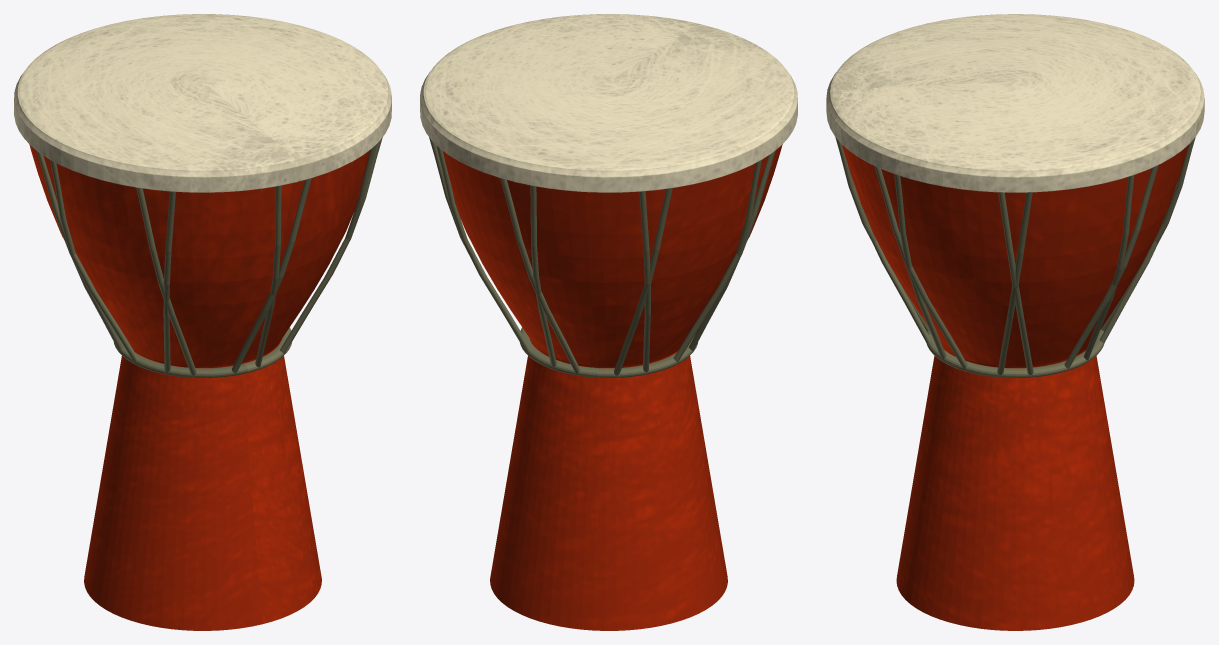
File: after.glb
3 views of the same model, side by side, from view 1: azimuth 30°, elevation 25°; view 2: azimuth 150°, elevation 25°; view 3: azimuth 270°, elevation 25° (orthographic).
Visible parts, largest first — view 1: geometry_0; view 2: geometry_0; view 3: geometry_0.
Boxes of the visible parts, left/top/right/bottom form: geometry_0: left=14, top=14, right=391, bottom=630; geometry_0: left=420, top=14, right=797, bottom=630; geometry_0: left=826, top=14, right=1204, bottom=630.
Bounding box in the file's own units: 1.37 × 2 × 1.37.
Materials: 1 (1 with a texture image).
